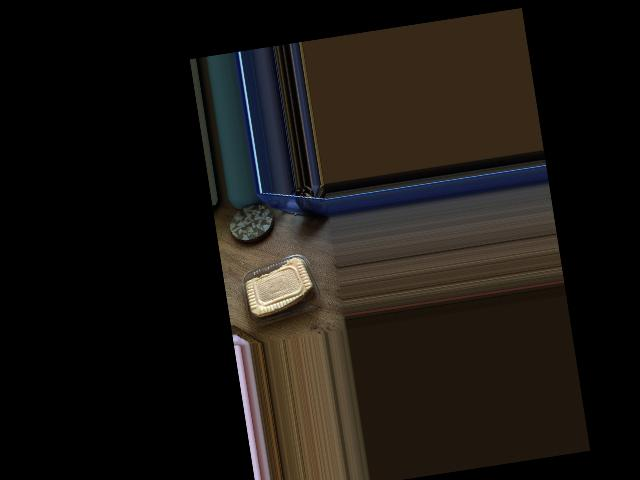cheese: (227, 248, 319, 346)
